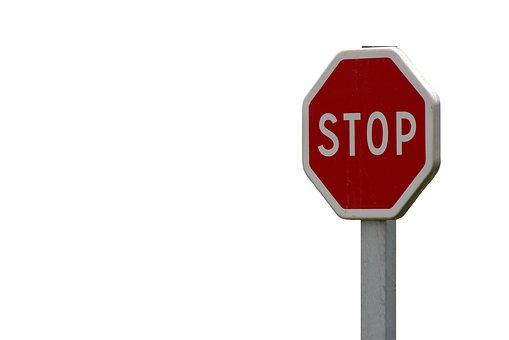stop: (299, 44, 446, 220)
